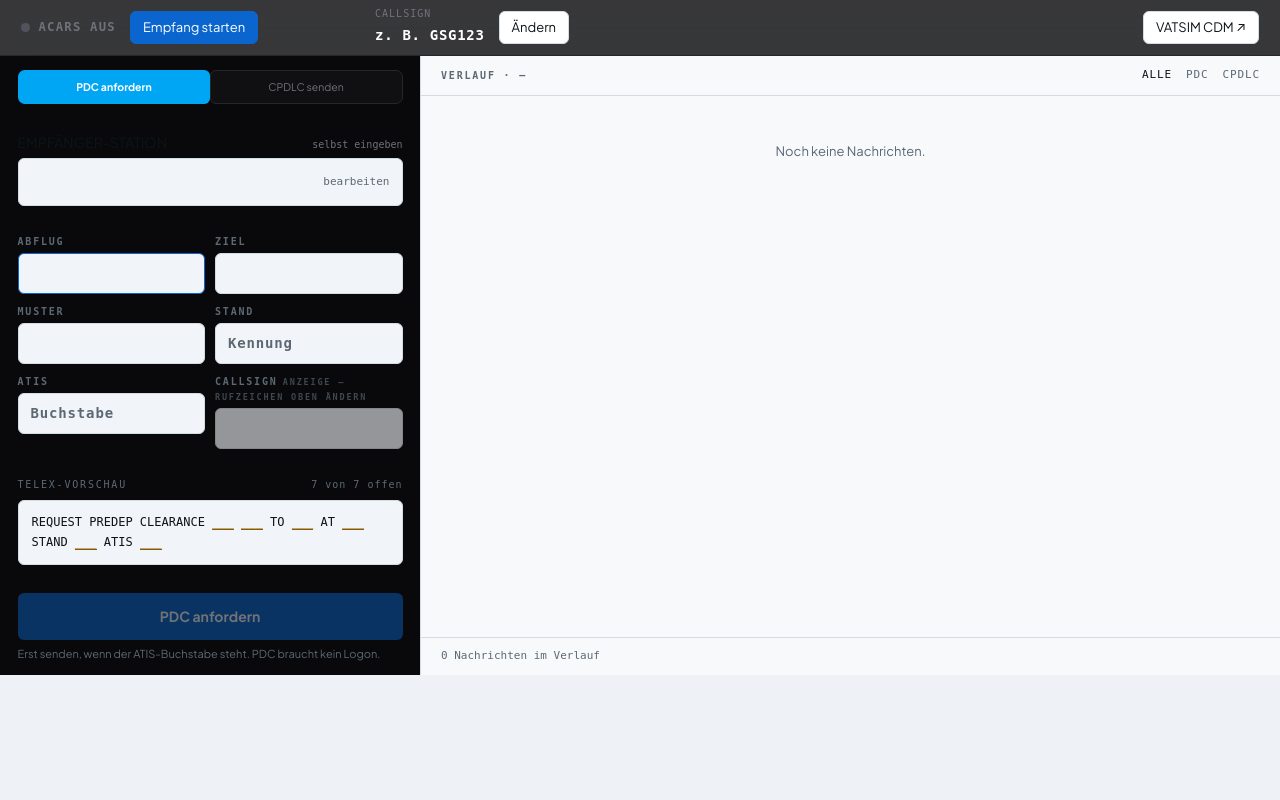
Test case: CpdlcPanel connection flow › persists a freshly typed callsign before connecting
Click the button "Ändern": {"x": 534, "y": 28} [499, 11, 569, 44]
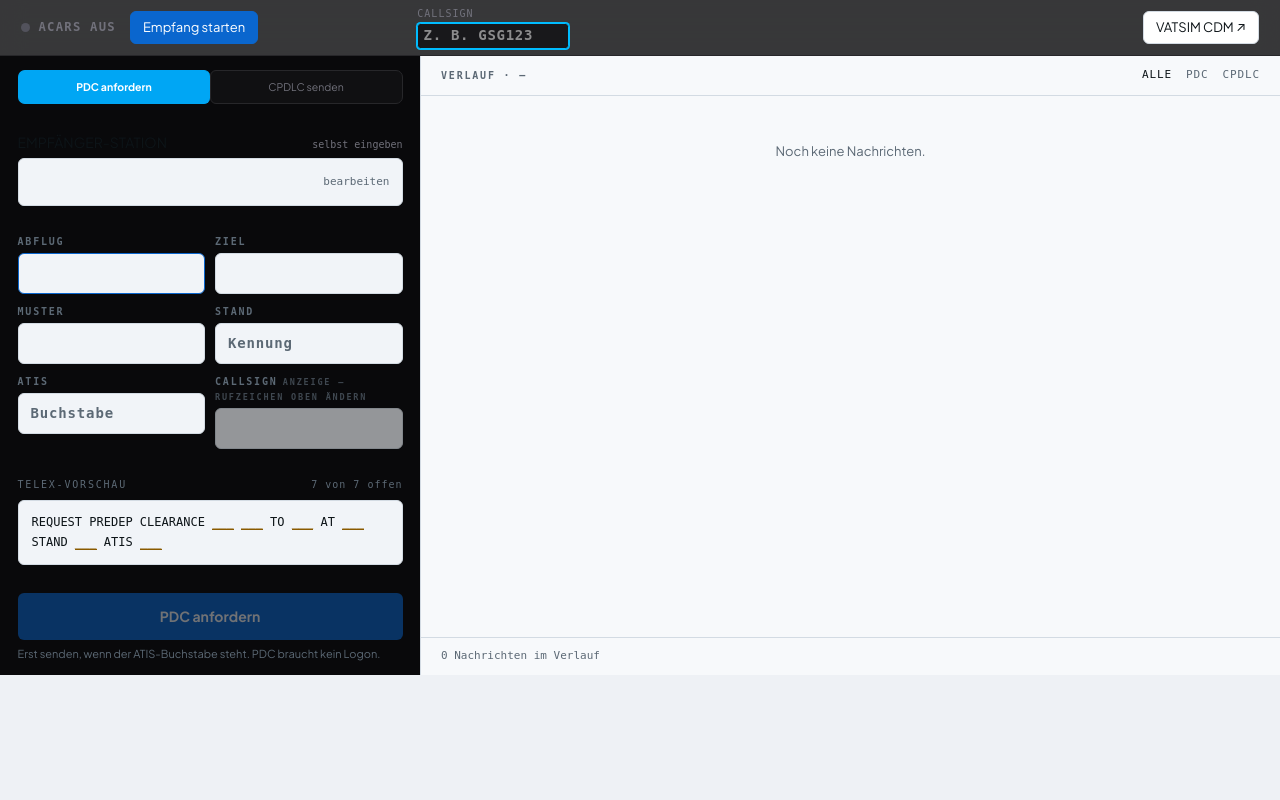
In the field labelled "CALLSIGN": {"x": 493, "y": 36} [417, 23, 569, 49], type "gsg123"
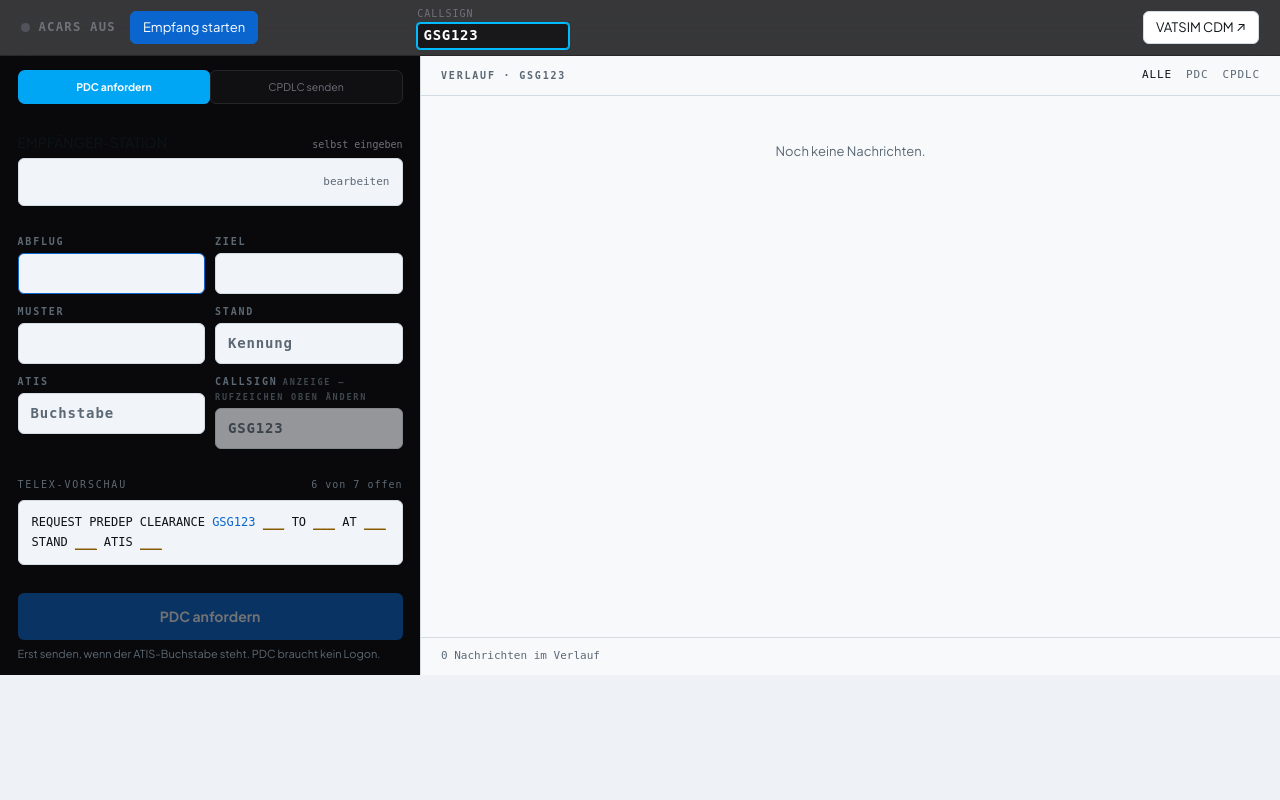
Click the button "Empfang starten": {"x": 194, "y": 28} [130, 11, 258, 44]
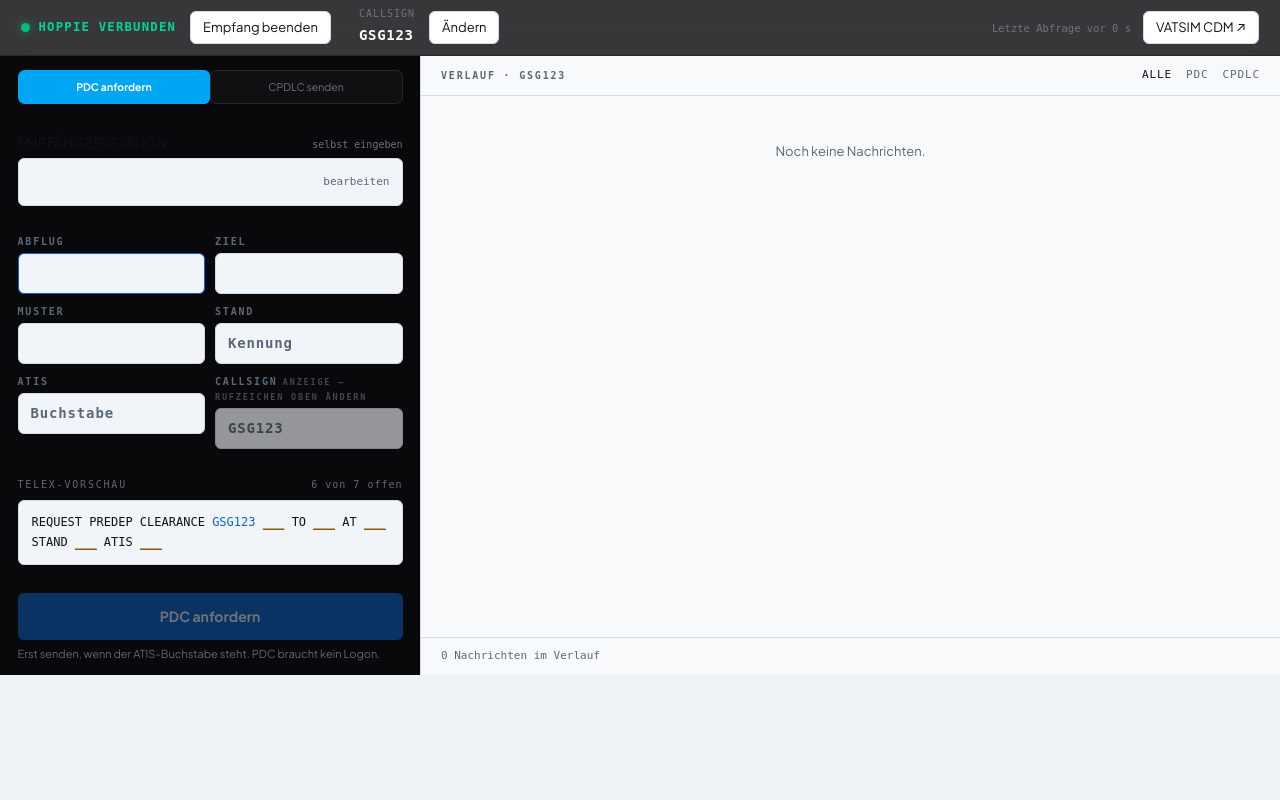
Now the text "HOPPIE VERBUNDEN" is shown, box [21, 19, 176, 36]
